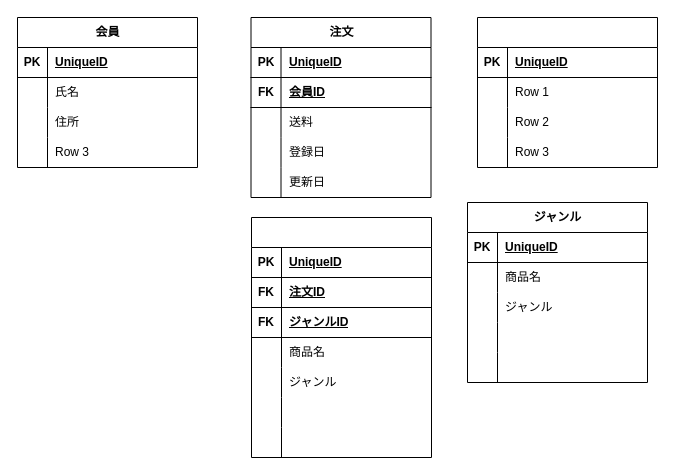
The diagram is 675 pixels wide and 475 high, and some of its shapes have lost their labels. The shapes that lost their labels are listed below. From the top down, each one's box as (x1, y1, x2, y2) in pixels, then its label:
(476, 16, 658, 168): 配送先
(250, 216, 432, 458): 商品
